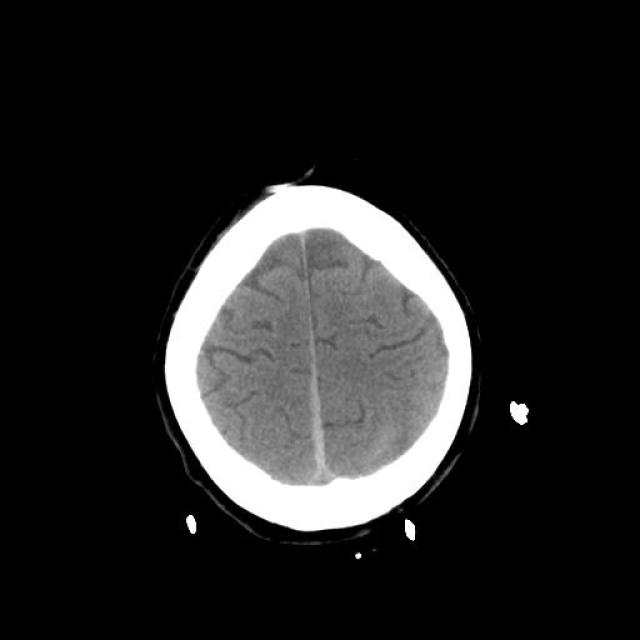Subdural: (278, 350, 358, 509)
